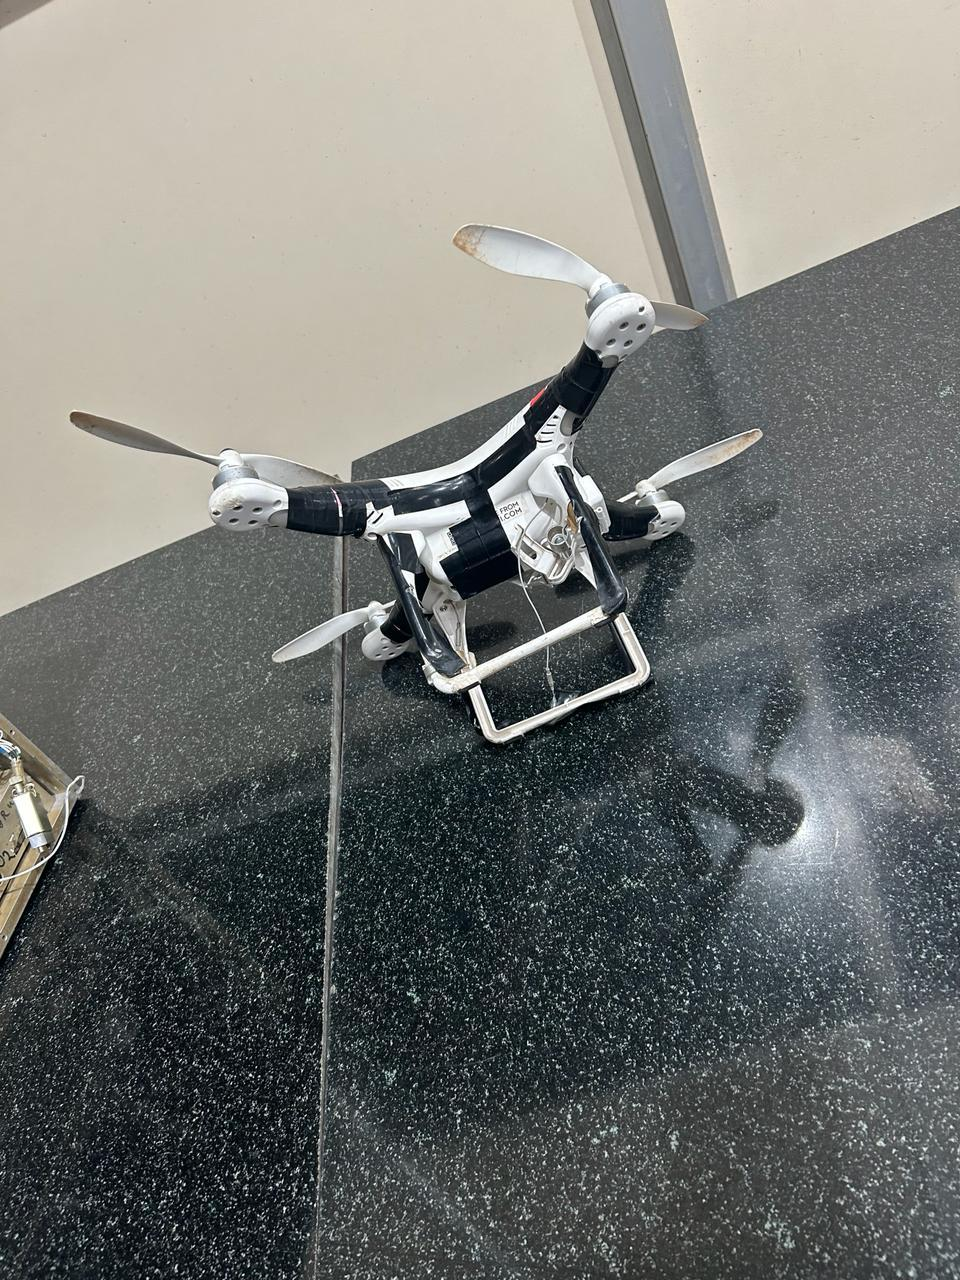drone: (37, 201, 775, 815)
